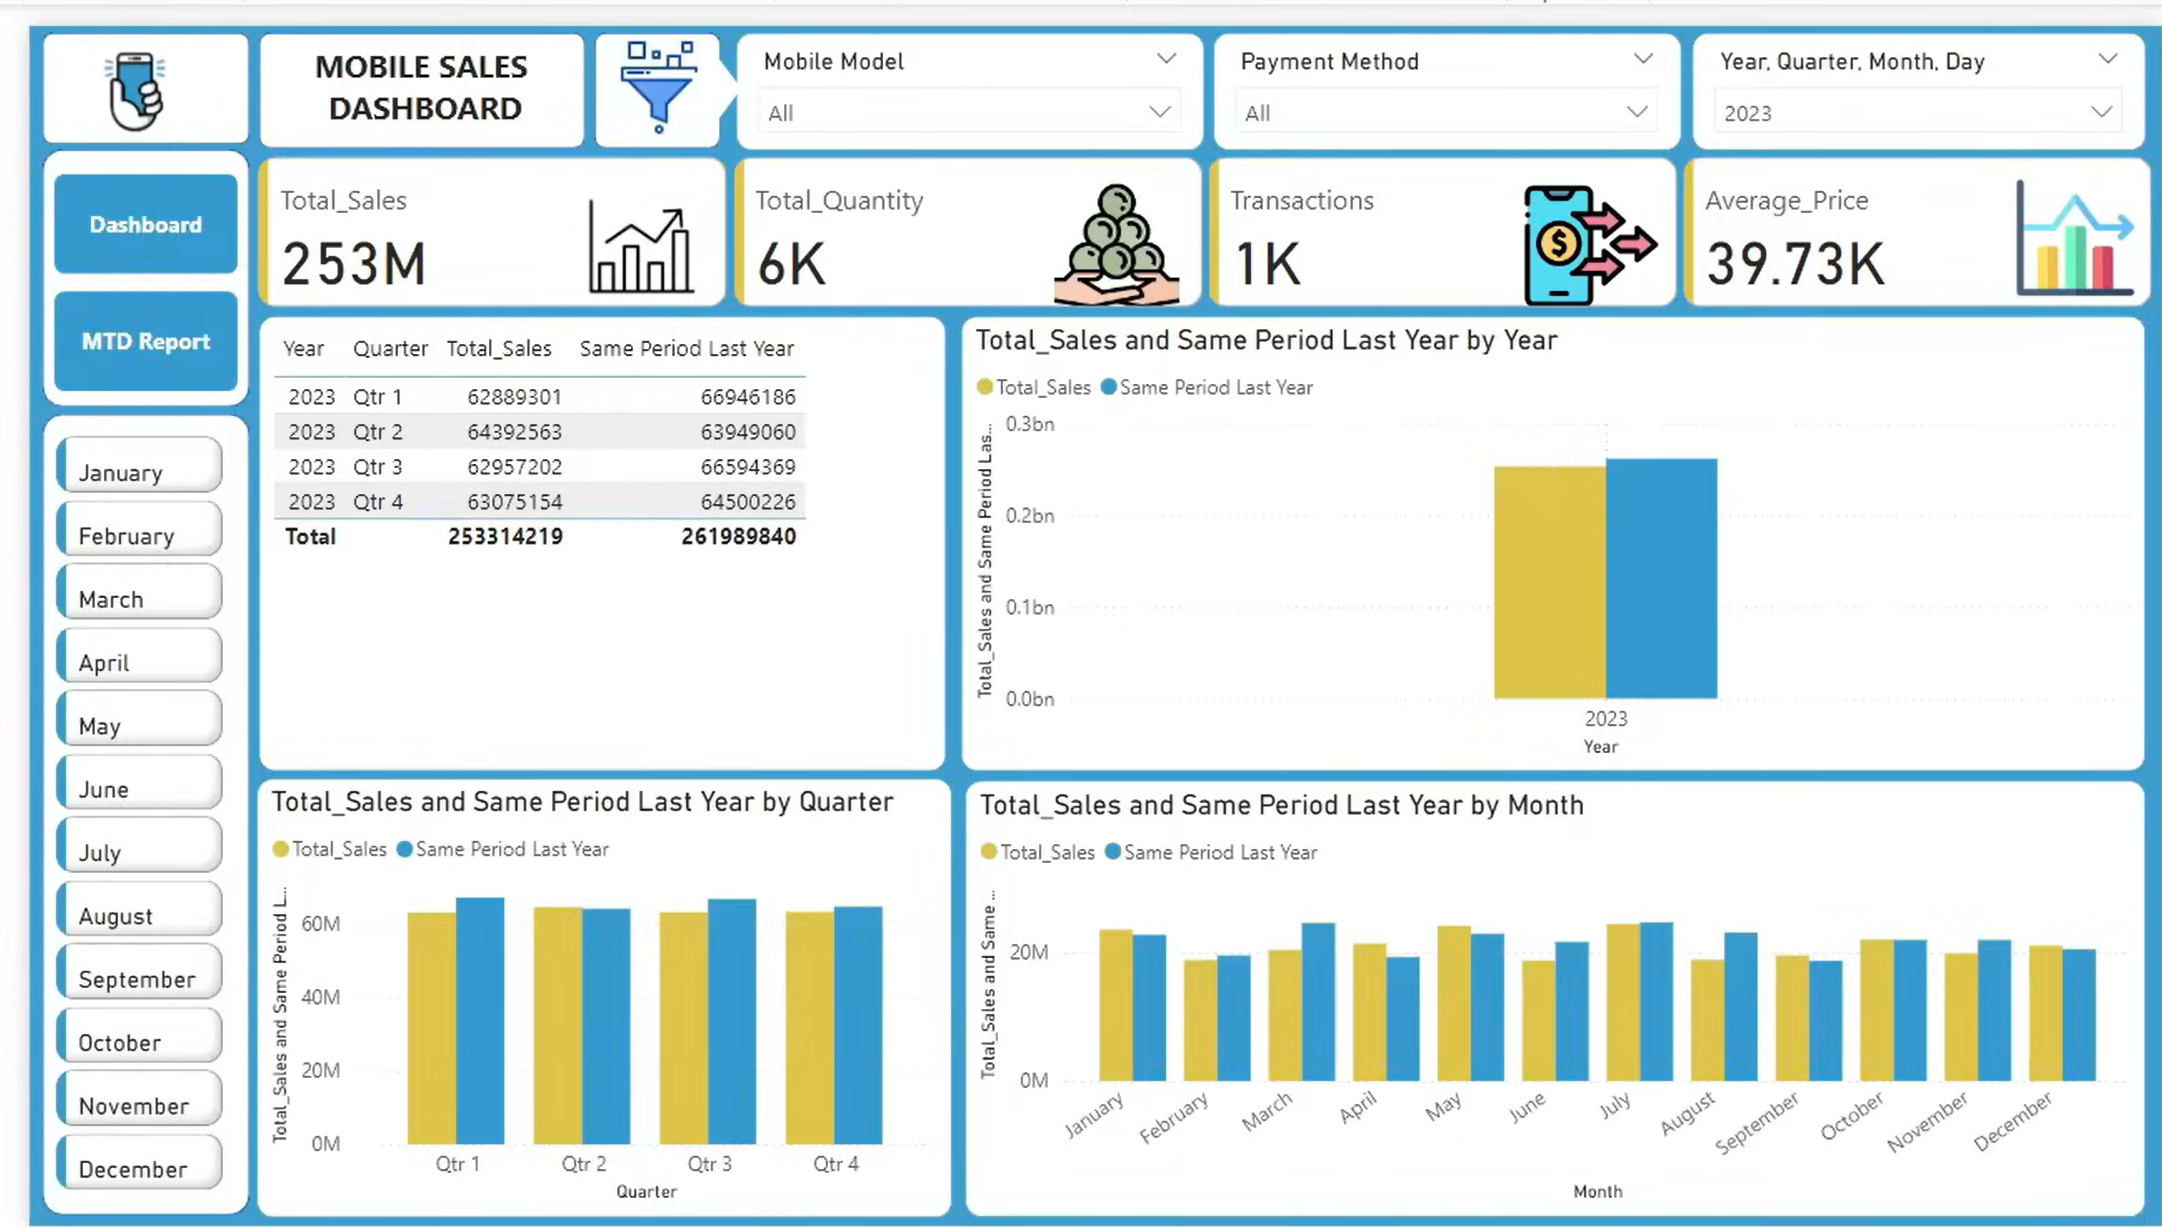

What the dashboard file says about the page in this screenshot:
{"tool":"powerbi","page":{"name":"Dashboard","canvas":[1280,720],"ordinal":0},"visuals":[{"type":"shape","box":[10,12.5,113.8,76.2],"z":0},{"type":"image","box":[28.8,21.2,76.2,56.2],"z":1000},{"type":"shape","box":[9.2,96.6,112.6,150.6],"z":2000},{"type":"shape","box":[8,255.2,113.8,449.4],"z":3000},{"type":"advancedSlicerVisual","fields":{"Values":["Custom_calendar.Date.Variation.Date Hierarchy.Month"]},"box":[9.2,263.2,111.5,441.4],"z":4000},{"type":"cardVisual","fields":{"Data":["Mobile_Sales_Data.Total_Sales","Mobile_Sales_Data.Transactions","Mobile_Sales_Data.Total_Quantity","Mobile_Sales_Data.Average_Price"]},"box":[121.8,77,1158.6,127.6],"z":5000},{"type":"slicer","fields":{"Values":["Mobile_Sales_Data.Mobile Model"]},"box":[420,8.8,282.5,76.2],"z":6000},{"type":"slicer","fields":{"Values":["Mobile_Sales_Data.Brand"]},"box":[983.8,8.8,285,76.2],"z":7000},{"type":"slicer","fields":{"Values":["Mobile_Sales_Data.Payment Method"]},"box":[712.5,8.8,262.5,76.2],"z":8000},{"type":"shape","box":[135,10,273.8,76.2],"z":9000},{"type":"textbox","box":[148.8,13.8,246.2,68.8],"z":10000},{"type":"map","fields":{"Category":["Mobile_Sales_Data.City"],"Size":["Mobile_Sales_Data.Total_Sales"]},"box":[135.6,194.3,351.7,344.8],"z":11000},{"type":"lineChart","fields":{"Y":["Mobile_Sales_Data.Total_Quantity"],"Category":["Custom_calendar.Date.Variation.Date Hierarchy.Month"]},"box":[496.6,194.3,772.4,186.2],"z":12000},{"type":"funnel","title":"Rating by Rating Status","fields":{"Y":["CountNonNull(Mobile_Sales_Data.Customer Age)"],"Category":["Mobile_Sales_Data.Rating Status"]},"box":[496.6,381.6,371.3,175.9],"z":13000},{"type":"pieChart","fields":{"Y":["Mobile_Sales_Data.Transactions"],"Category":["Mobile_Sales_Data.Payment Method"]},"box":[874.7,381.6,394.3,175.9],"z":14000},{"type":"clusteredBarChart","fields":{"Y":["Mobile_Sales_Data.Total_Sales"],"Category":["Mobile_Sales_Data.Mobile Model"]},"box":[496.6,566.7,372.4,148.3],"z":15000},{"type":"areaChart","fields":{"Y":["Mobile_Sales_Data.Total_Sales"],"Category":["Custom_calendar.Day Name"]},"box":[874.7,566.7,396.6,143.7],"z":16000},{"type":"tableEx","fields":{"Values":["Mobile_Sales_Data.Brand","Mobile_Sales_Data.Total_Sales","Mobile_Sales_Data.Transactions"]},"box":[134.5,547.1,352.9,169],"z":17000},{"type":"pageNavigator","box":[13.8,102.3,104.6,140.2],"z":17001}]}

Visuals, with their boxes in screenshot pixels (x1, y1, x2, y2), scaled from the page's 1280x720 canvas onto the 2162x1227 screenshot:
shape: BBox(17, 21, 209, 151)
image: BBox(49, 36, 177, 132)
shape: BBox(16, 165, 206, 421)
shape: BBox(14, 435, 206, 1201)
advancedSlicerVisual - Custom_calendar.Date.Variation.Date Hierarchy.Month: BBox(16, 449, 204, 1201)
cardVisual - Mobile_Sales_Data.Total_Sales x Mobile_Sales_Data.Transactions: BBox(206, 131, 2161, 349)
slicer - Mobile_Sales_Data.Mobile Model: BBox(709, 15, 1187, 145)
slicer - Mobile_Sales_Data.Brand: BBox(1662, 15, 2143, 145)
slicer - Mobile_Sales_Data.Payment Method: BBox(1203, 15, 1647, 145)
shape: BBox(228, 17, 690, 147)
textbox: BBox(251, 24, 667, 141)
map - Mobile_Sales_Data.City x Mobile_Sales_Data.Total_Sales: BBox(229, 331, 823, 919)
lineChart - Mobile_Sales_Data.Total_Quantity x Custom_calendar.Date.Variation.Date Hierarchy.Month: BBox(839, 331, 2143, 648)
"Rating by Rating Status" funnel: BBox(839, 650, 1466, 950)
pieChart - Mobile_Sales_Data.Transactions x Mobile_Sales_Data.Payment Method: BBox(1477, 650, 2143, 950)
clusteredBarChart - Mobile_Sales_Data.Total_Sales x Mobile_Sales_Data.Mobile Model: BBox(839, 966, 1468, 1218)
areaChart - Mobile_Sales_Data.Total_Sales x Custom_calendar.Day Name: BBox(1477, 966, 2147, 1211)
tableEx - Mobile_Sales_Data.Brand x Mobile_Sales_Data.Total_Sales: BBox(227, 932, 823, 1220)
pageNavigator: BBox(23, 174, 200, 413)
